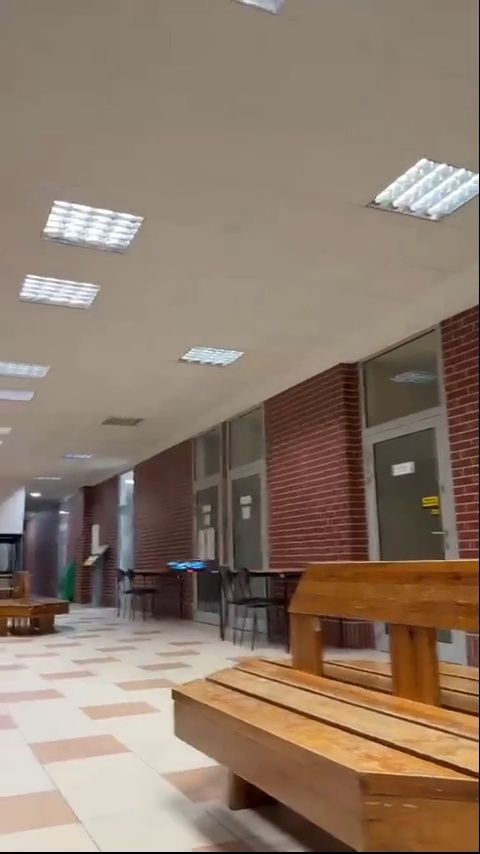drone: (168, 560, 206, 574)
